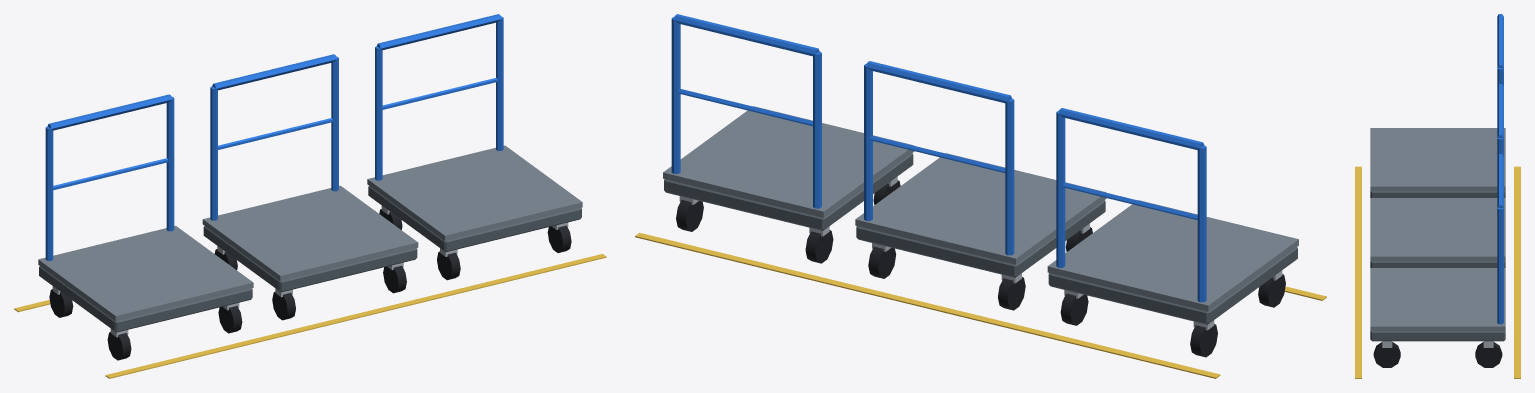
File: cart_rack.glb
The picture shows the model from 3 angles, left to right: view 1: azimuth 30°, elevation 25°; view 2: azimuth 150°, elevation 25°; view 3: azimuth 270°, elevation 25°; orthographic projection. The views are drawn at different scales.
Visible parts, largest first — view 1: cart_rack; view 2: cart_rack; view 3: cart_rack.
Part boxes in pixels (bbox=[...]): cart_rack: bbox=[14, 14, 606, 378]; cart_rack: bbox=[635, 14, 1326, 378]; cart_rack: bbox=[1355, 14, 1520, 378].
Bounding box in the file's own units: 2.96 × 1.07 × 0.98.
